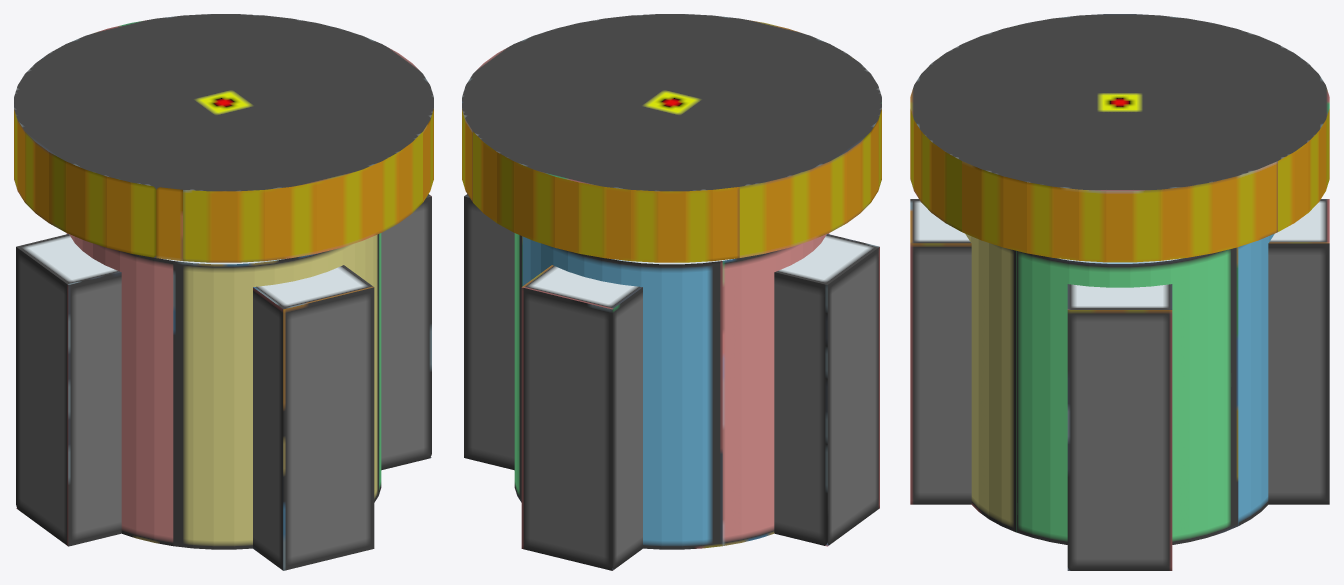
The model's file is windmill_base.obj.
3 views of the same model, side by side, from view 1: azimuth 30°, elevation 25°; view 2: azimuth 150°, elevation 25°; view 3: azimuth 270°, elevation 25° (orthographic).
Visible parts, largest first — view 1: cylinder, cube; view 2: cylinder, cube; view 3: cylinder, cube.
Part boxes in pixels (left/top/right/bottom): cylinder: left=14, top=14, right=433, bottom=549; cube: left=16, top=194, right=431, bottom=570; cylinder: left=462, top=14, right=881, bottom=549; cube: left=464, top=194, right=879, bottom=570; cylinder: left=910, top=14, right=1329, bottom=544; cube: left=910, top=199, right=1329, bottom=570.
Size of the model in its own units: 1 by 1 by 1.
